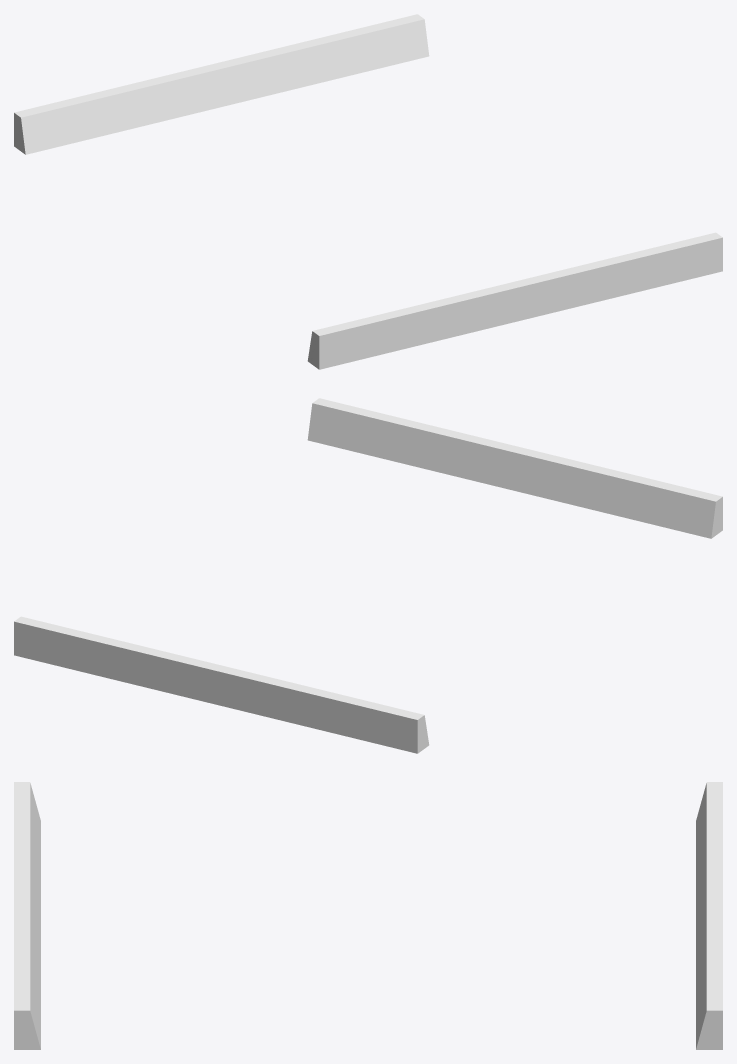
Rendered from kenney-city-roads-road-side-barrier.glb.
The picture shows the model from 3 angles, top to bottom: view 1: azimuth 30°, elevation 25°; view 2: azimuth 150°, elevation 25°; view 3: azimuth 270°, elevation 25°; orthographic projection. The views are drawn at different scales.
Visible parts, largest first — view 1: road-side-barrier; view 2: road-side-barrier; view 3: road-side-barrier.
Boxes of the visible parts, x1,y1,x2,y2 form: road-side-barrier: (14, 14, 722, 369); road-side-barrier: (14, 398, 722, 753); road-side-barrier: (14, 782, 722, 1049).
Bounding box in the file's own units: 1 × 0.08 × 1.31.
Materials: 1 (1 with a texture image).
